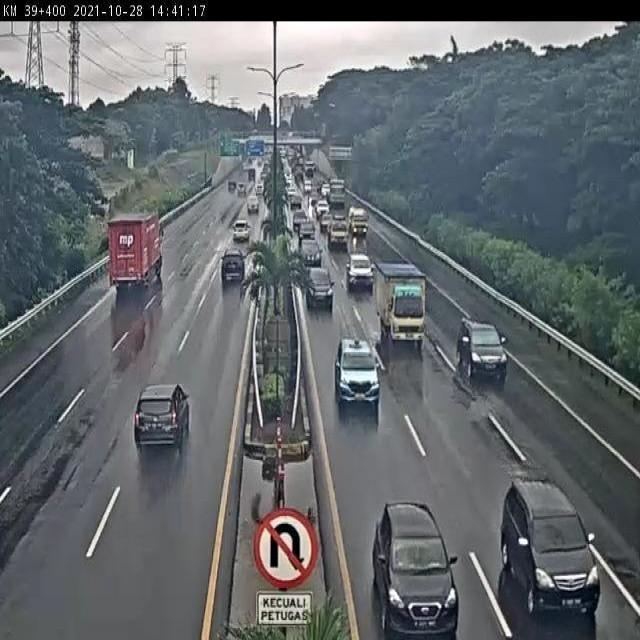car: (500, 477, 602, 616), (371, 501, 460, 640), (133, 382, 190, 447), (332, 337, 381, 408), (456, 316, 508, 381), (305, 267, 333, 308), (346, 252, 374, 292), (220, 248, 246, 284), (299, 238, 322, 266)
mid truck: (107, 210, 163, 290)
truck-m-: (375, 260, 426, 344)
